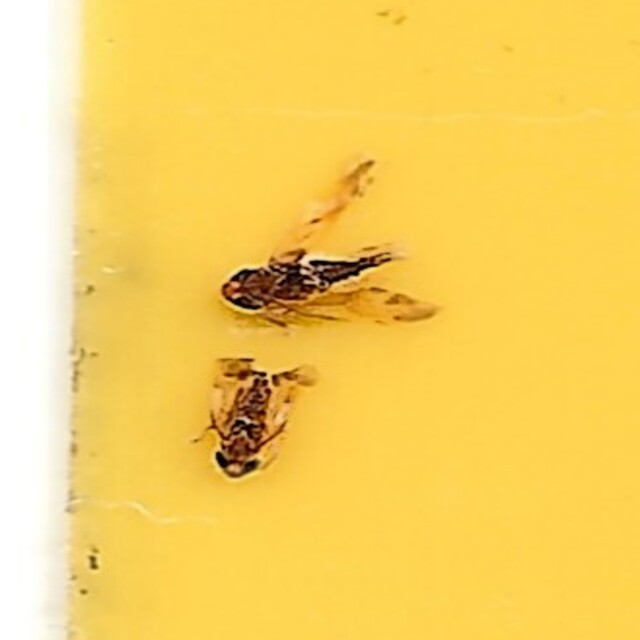Hemiptera: (220, 158, 445, 338), (195, 356, 317, 482)
